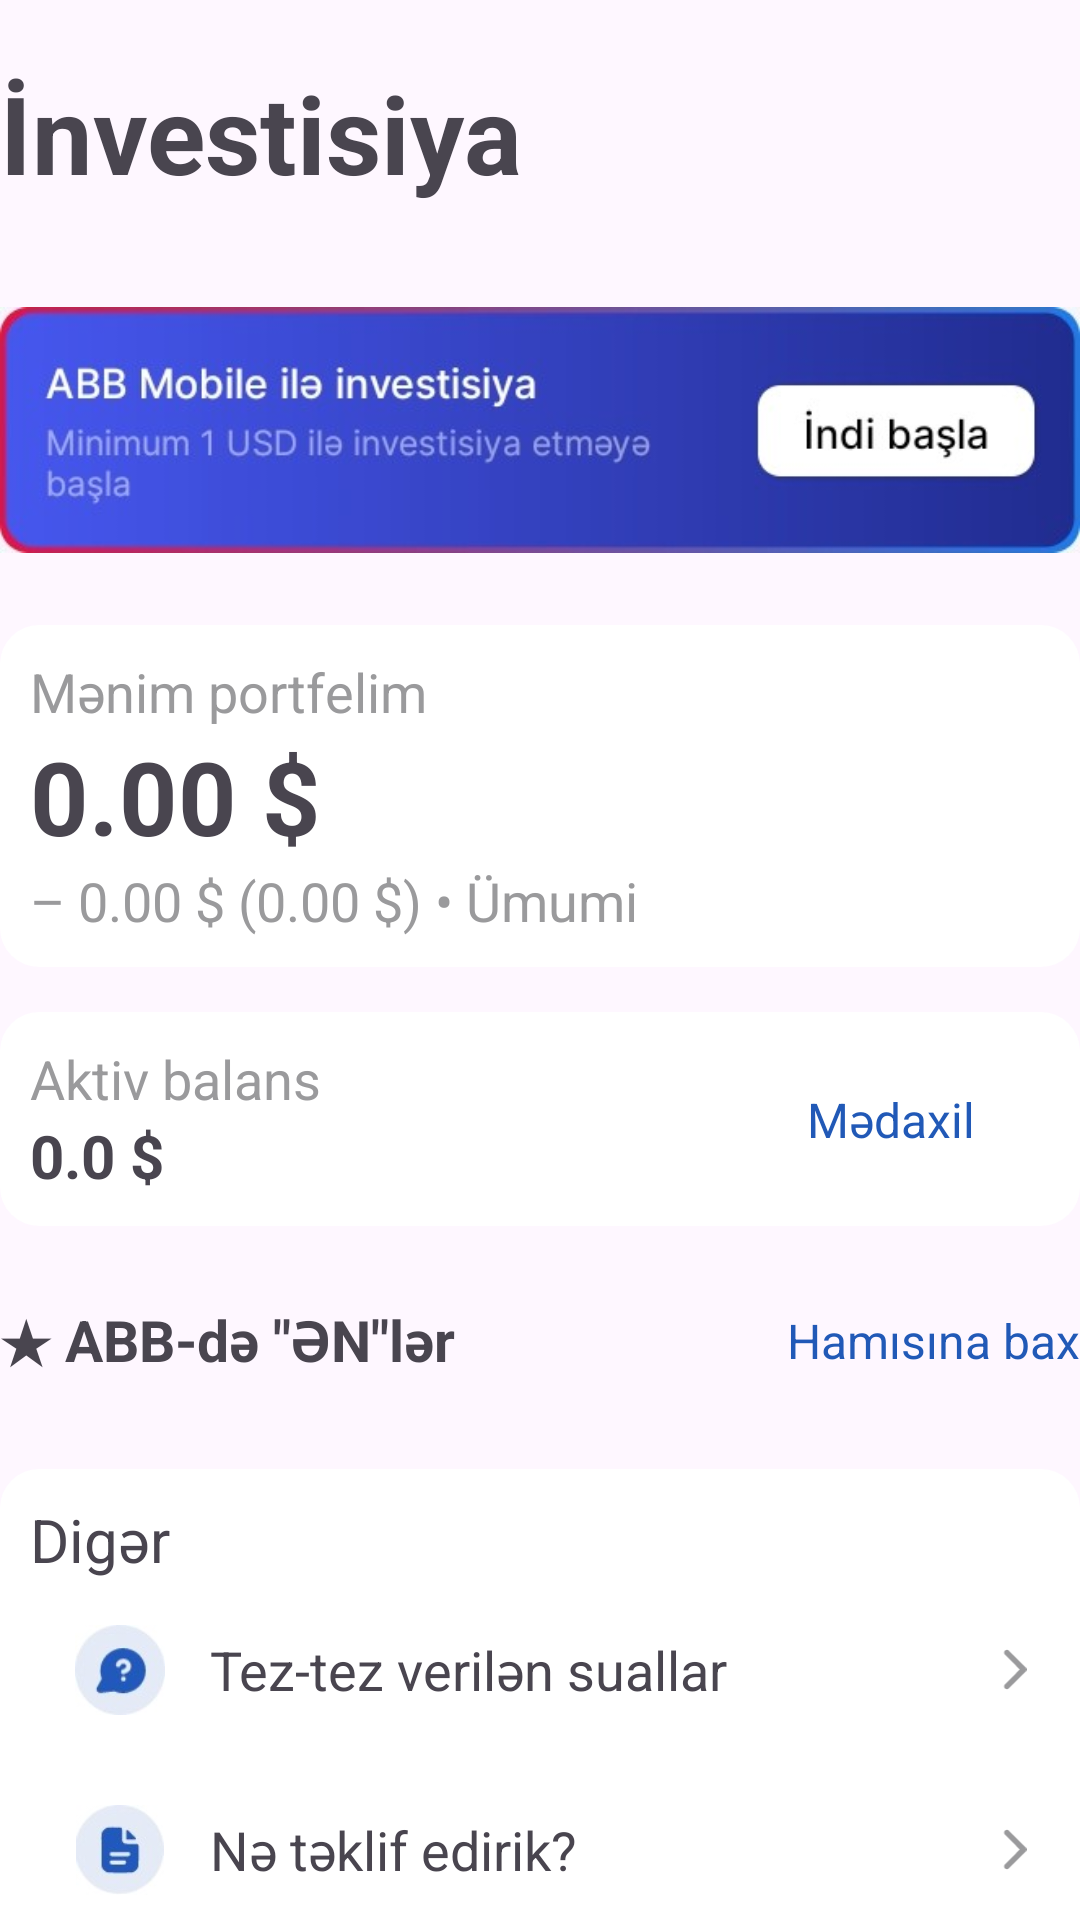

Icon bounding boxes for this 1080 x 1920 phone screenshot, format (x1, y1, x2, y2):
faqicon: (75, 1625, 165, 1715)
right angle: (1004, 1650, 1027, 1689), (1004, 1830, 1027, 1869)
